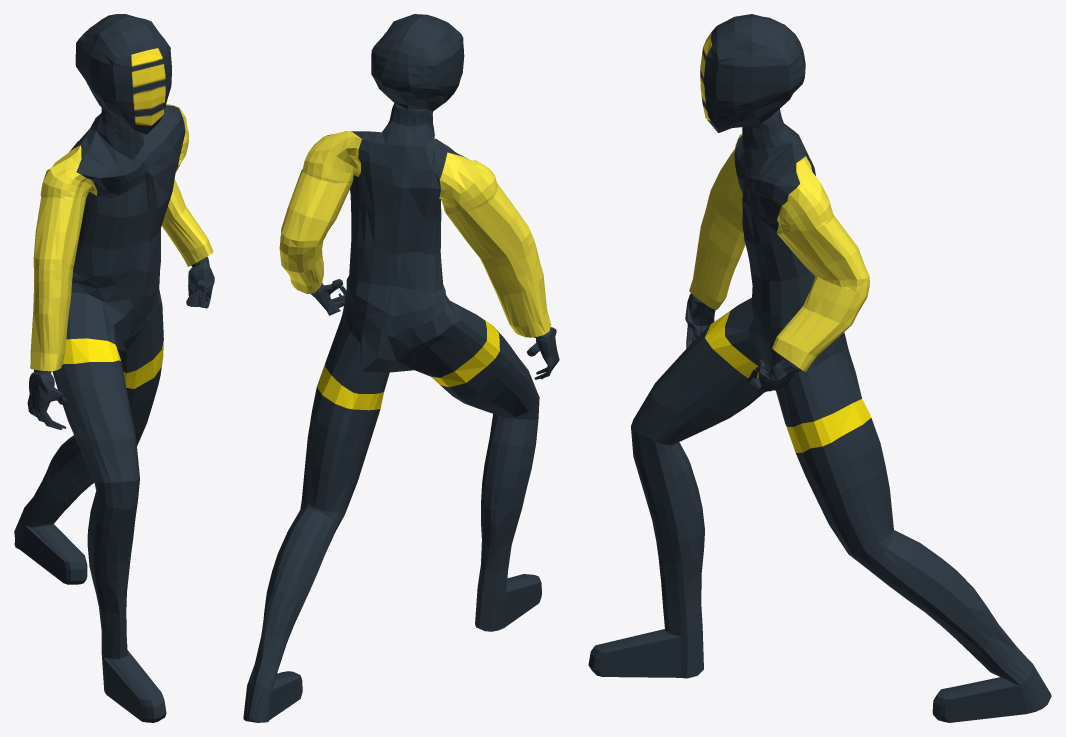
The model's file is Sentry_Stun_Recover_000011.obj.
The picture shows the model from 3 angles, left to right: view 1: azimuth 30°, elevation 25°; view 2: azimuth 150°, elevation 25°; view 3: azimuth 270°, elevation 25°; orthographic projection. The views are drawn at different scales.
Parts seen in each view (by area): view 1: Cube; view 2: Cube; view 3: Cube.
Boxes of the visible parts, x1,y1,x2,y2 form: Cube: [14, 14, 214, 722]; Cube: [243, 14, 559, 722]; Cube: [588, 14, 1051, 722].
Size of the model in its own units: 1.33 by 3.6 by 2.22.
